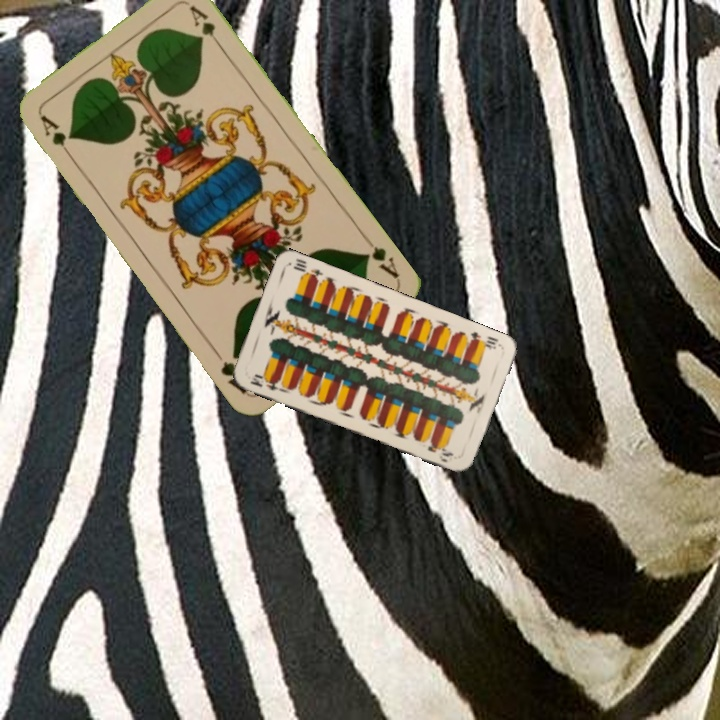E10: (246, 370, 285, 393), (466, 328, 501, 352)
GA: (358, 231, 402, 282), (36, 110, 76, 162)
